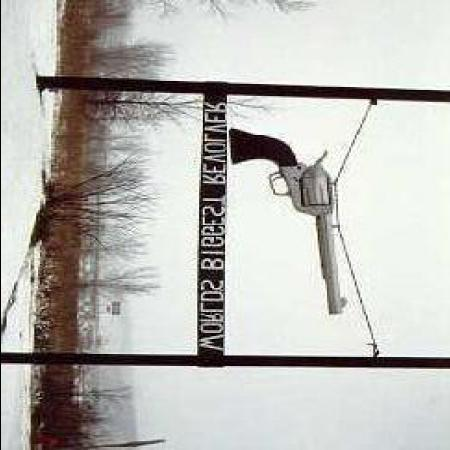Pistol: (233, 125, 360, 314)
